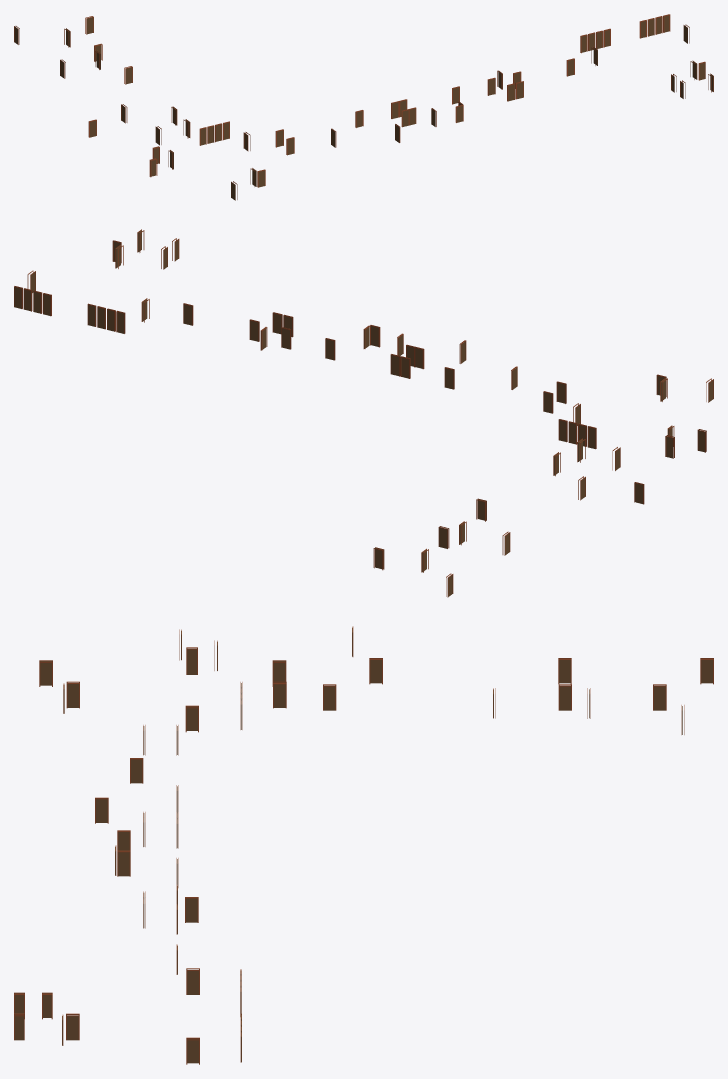
Rendered from insaat_revit.ifc.ifc.ifc_96.5 Dekanlık- D200_IfcDoor.dae.
3 views of the same model, one above another, from view 1: azimuth 30°, elevation 25°; view 2: azimuth 150°, elevation 25°; view 3: azimuth 270°, elevation 25° (orthographic). The views are drawn at different scales.
Bounding box in the file's own units: 74.6 × 53.44 × 2.21.
